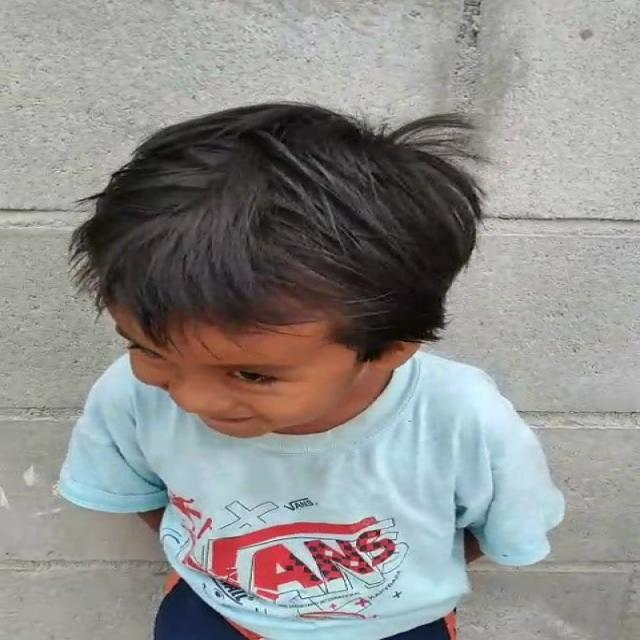9_cabeza_baja: (68, 101, 484, 440)
